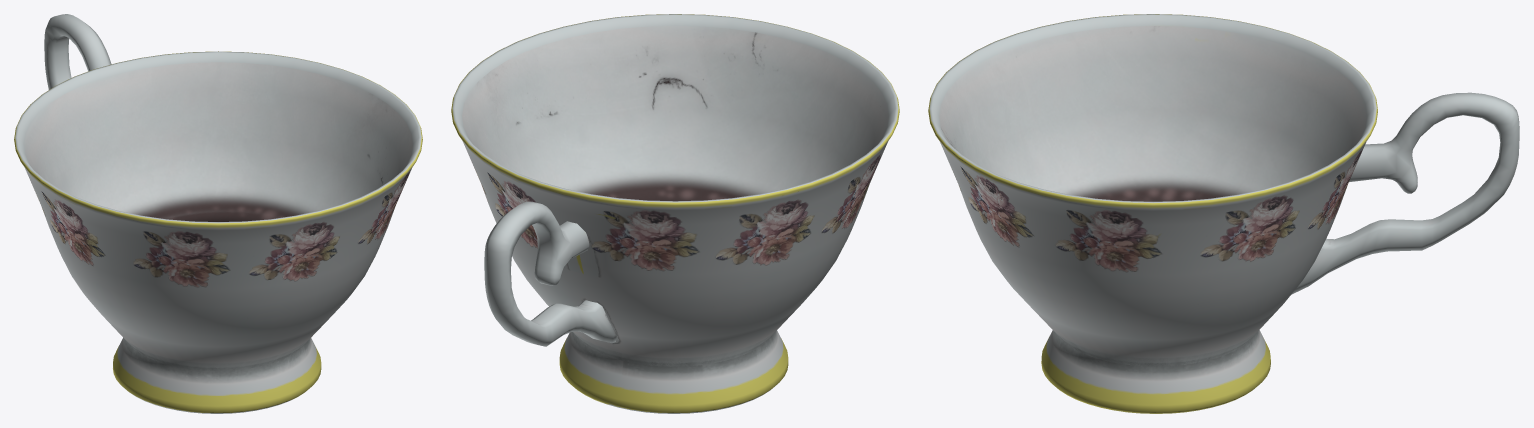
The model's file is SM_Cup.fbx.
3 renders of one model, left to right at view 1: azimuth 30°, elevation 25°; view 2: azimuth 150°, elevation 25°; view 3: azimuth 270°, elevation 25°, orthographic. The views are drawn at different scales.
Parts seen in each view (by area): view 1: SM_Cup; view 2: SM_Cup; view 3: SM_Cup.
Part boxes in pixels (x1,y1,x2,y2): SM_Cup: (14, 14, 422, 413); SM_Cup: (451, 14, 899, 413); SM_Cup: (928, 14, 1519, 413).
Bounding box in the file's own units: 12.68 × 8.46 × 16.67.
